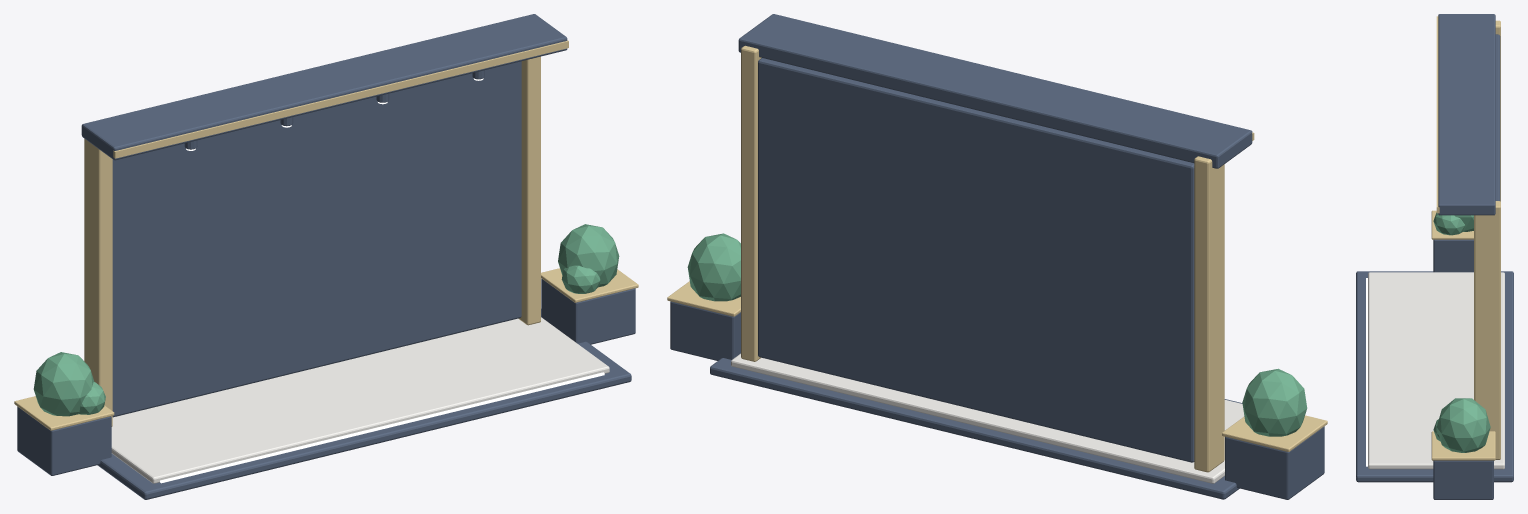
The model's file is checkin_stage_v27_4.glb.
The picture shows the model from 3 angles, left to right: view 1: azimuth 30°, elevation 25°; view 2: azimuth 150°, elevation 25°; view 3: azimuth 270°, elevation 25°; orthographic projection. The views are drawn at different scales.
Visible parts, largest first — view 1: PlazaMat_StageNavy, PlazaMat_StageMarble, PlazaMat_StageBrass, PlazaMat_StageGreenery, PlazaMat_StageSpotlight; view 2: PlazaMat_StageNavy, PlazaMat_StageBrass, PlazaMat_StageMarble, PlazaMat_StageGreenery; view 3: PlazaMat_StageNavy, PlazaMat_StageMarble, PlazaMat_StageBrass, PlazaMat_StageGreenery, PlazaMat_StageSpotlight.
Part boxes in pixels (<box>): PlazaMat_StageNavy: <box>17,14,635,499</box>; PlazaMat_StageMarble: <box>111,317,609,483</box>; PlazaMat_StageBrass: <box>14,40,638,430</box>; PlazaMat_StageGreenery: <box>33,224,619,416</box>; PlazaMat_StageSpotlight: <box>160,78,604,483</box>; PlazaMat_StageNavy: <box>670,14,1324,499</box>; PlazaMat_StageBrass: <box>667,45,1327,472</box>; PlazaMat_StageMarble: <box>731,353,1244,483</box>; PlazaMat_StageGreenery: <box>687,233,1307,436</box>; PlazaMat_StageNavy: <box>1356,14,1513,499</box>; PlazaMat_StageMarble: <box>1368,272,1504,469</box>; PlazaMat_StageBrass: <box>1431,16,1500,460</box>; PlazaMat_StageGreenery: <box>1433,212,1490,452</box>; PlazaMat_StageSpotlight: <box>1366,278,1367,466</box>.
Bounding box in the file's own units: 7.36 × 3.76 × 1.98.
